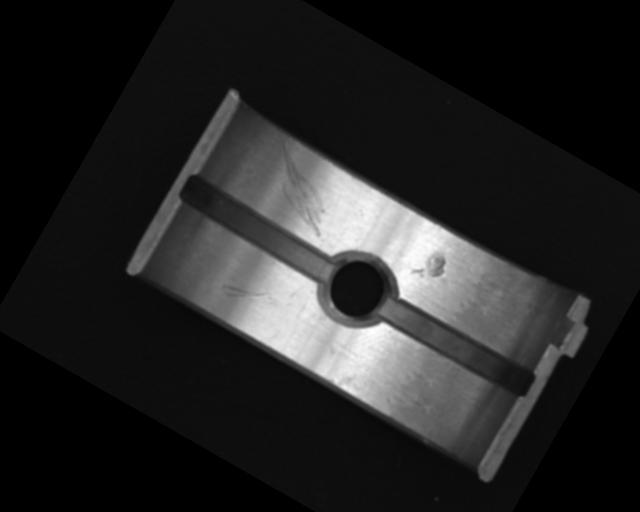bruise: (410, 246, 451, 288)
gap: (175, 172, 342, 287), (374, 291, 536, 401)
hole: (311, 244, 404, 337)
nick: (252, 140, 353, 238), (219, 269, 277, 318)
